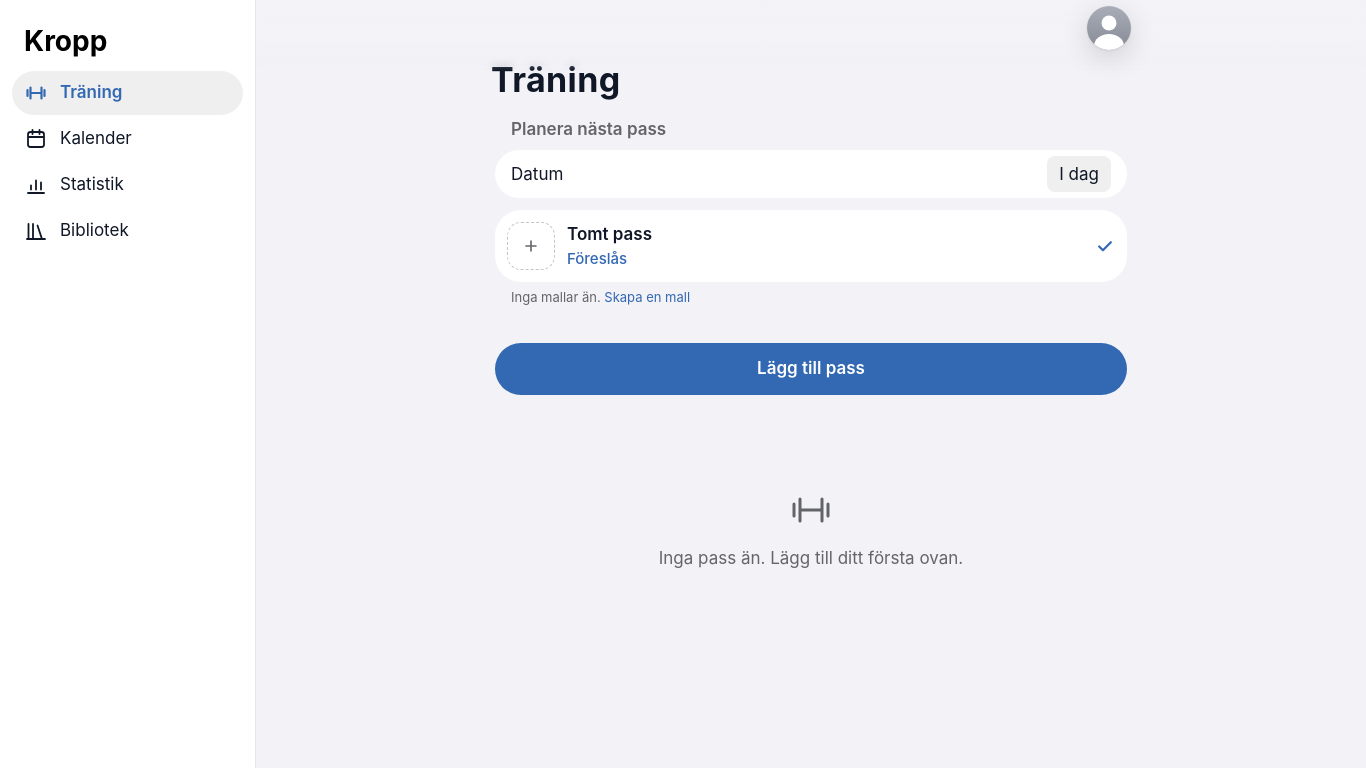
closes a sheet thrown down without a second animation, the page below brightening with it
Click the link with test id "settings-link" at (1109, 28), box [1087, 6, 1131, 50]
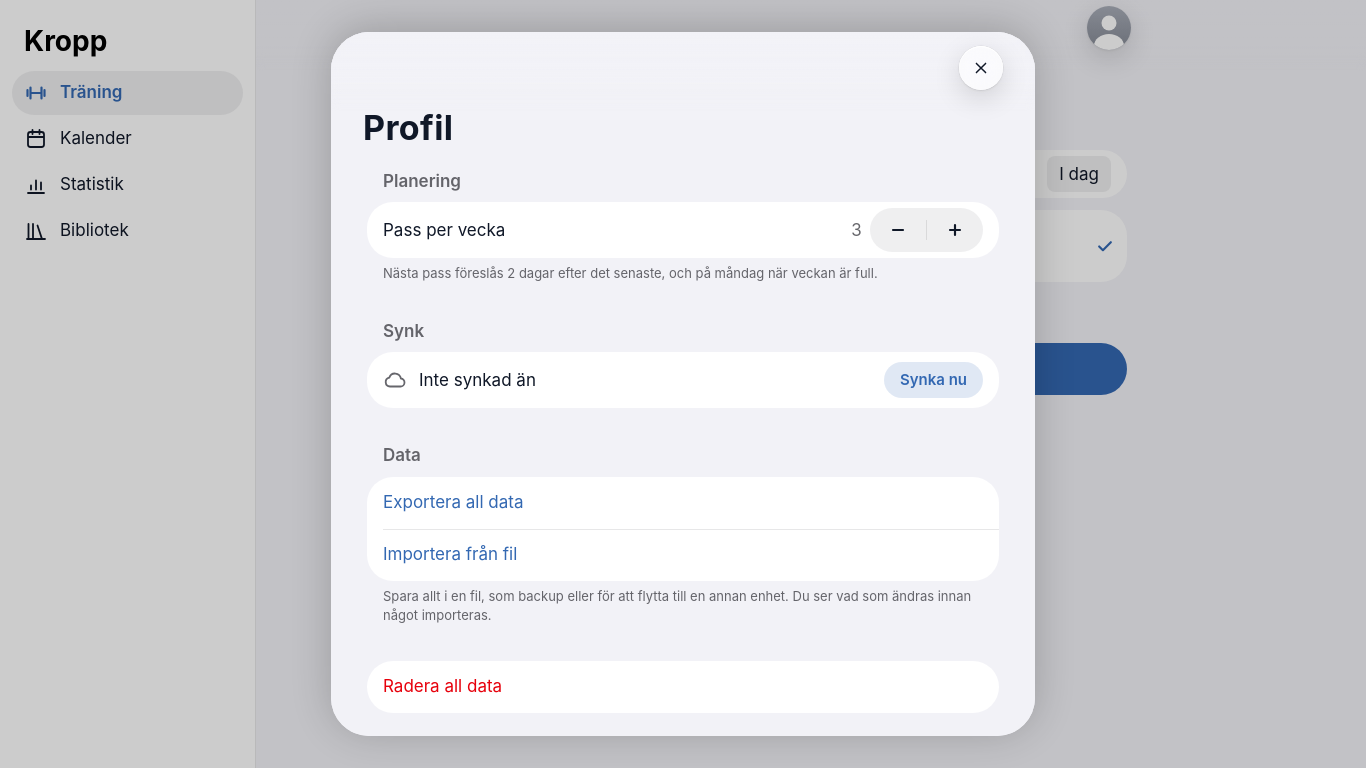
Press the mouse on the 2nd header at (683, 64), box [331, 32, 1035, 96]
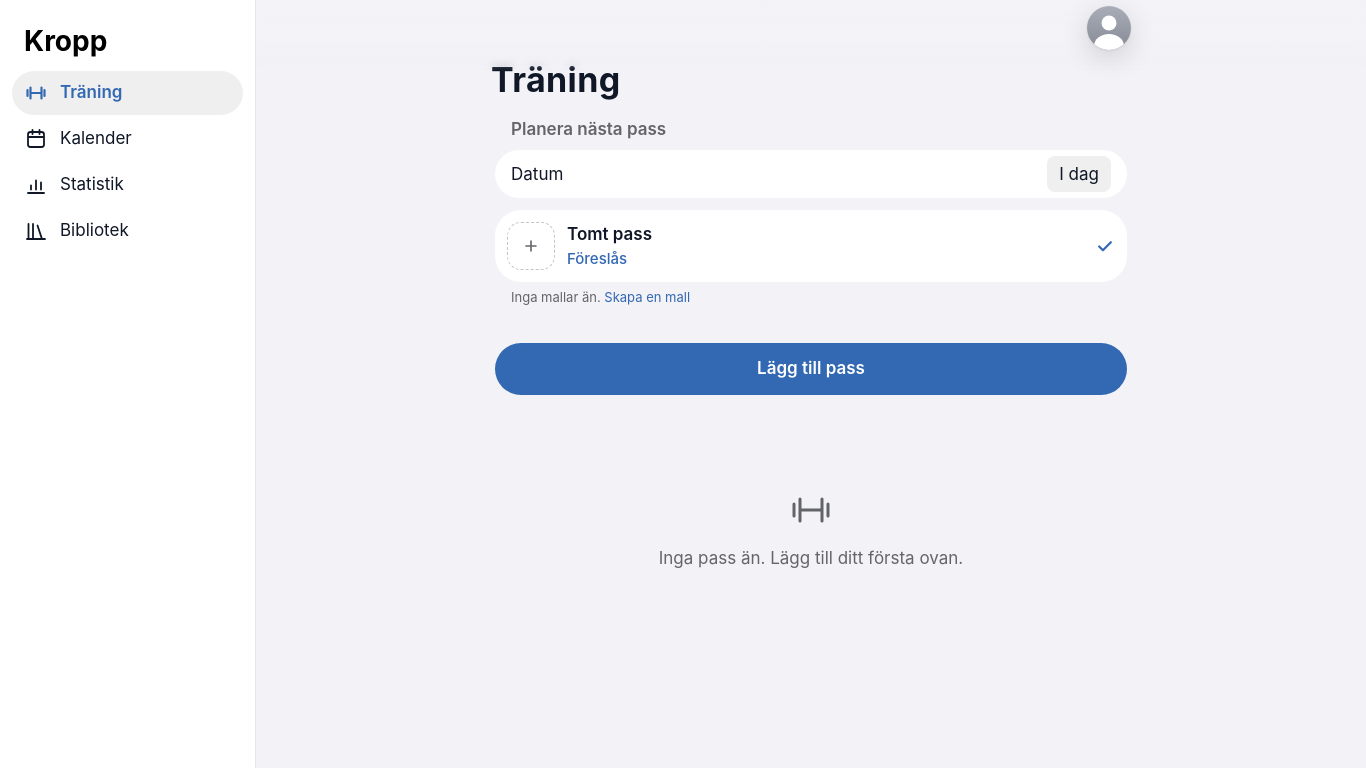
expect the dialog is gone: met
